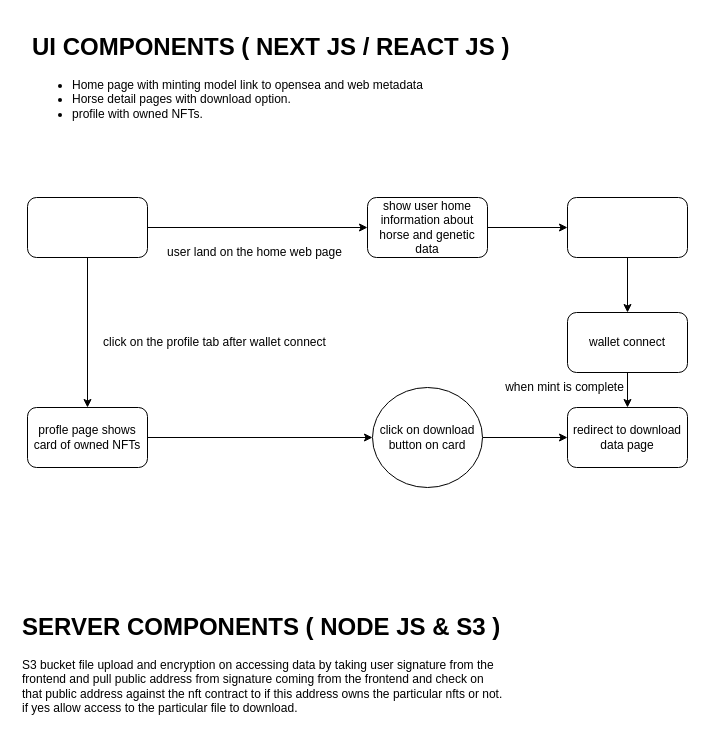
This 719x744 diagram has some shape labels left out. The centre of each missing label's shape, as x and y in pixels:
section for minting NFTs: (x=627, y=227)
user onboarding: (x=87, y=227)
